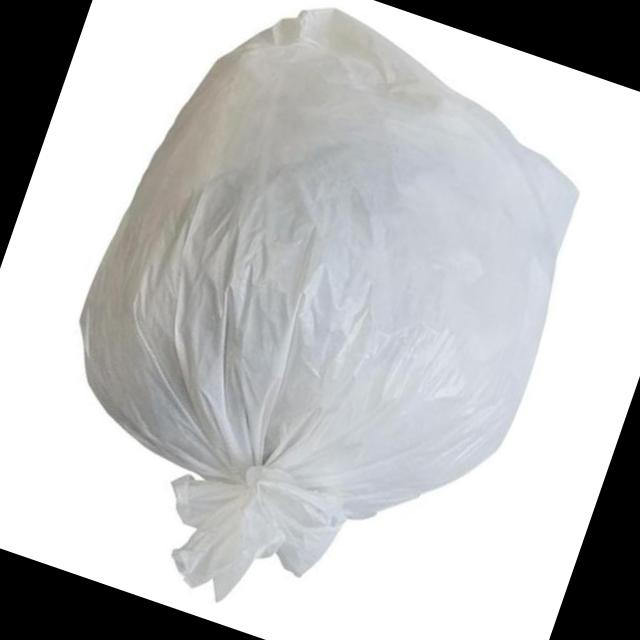KantongPlastik: (2, 0, 623, 640)
